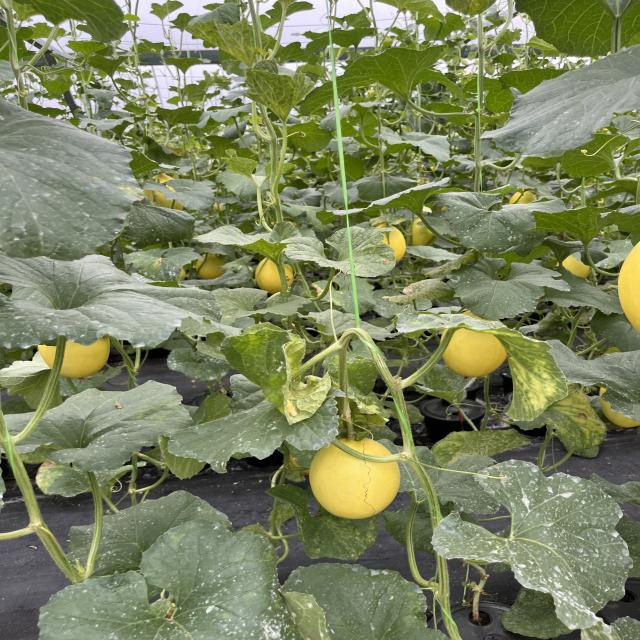SLCV: (219, 325, 342, 422)
downy mildew: (0, 98, 150, 259), (397, 312, 574, 422), (5, 375, 198, 470), (486, 50, 640, 160), (429, 187, 567, 254), (446, 254, 569, 318), (283, 224, 401, 282), (187, 17, 276, 70), (237, 70, 318, 119)
healthy: (305, 42, 454, 116)
powdery mildew: (432, 460, 640, 630), (34, 525, 285, 640), (0, 252, 240, 356)
